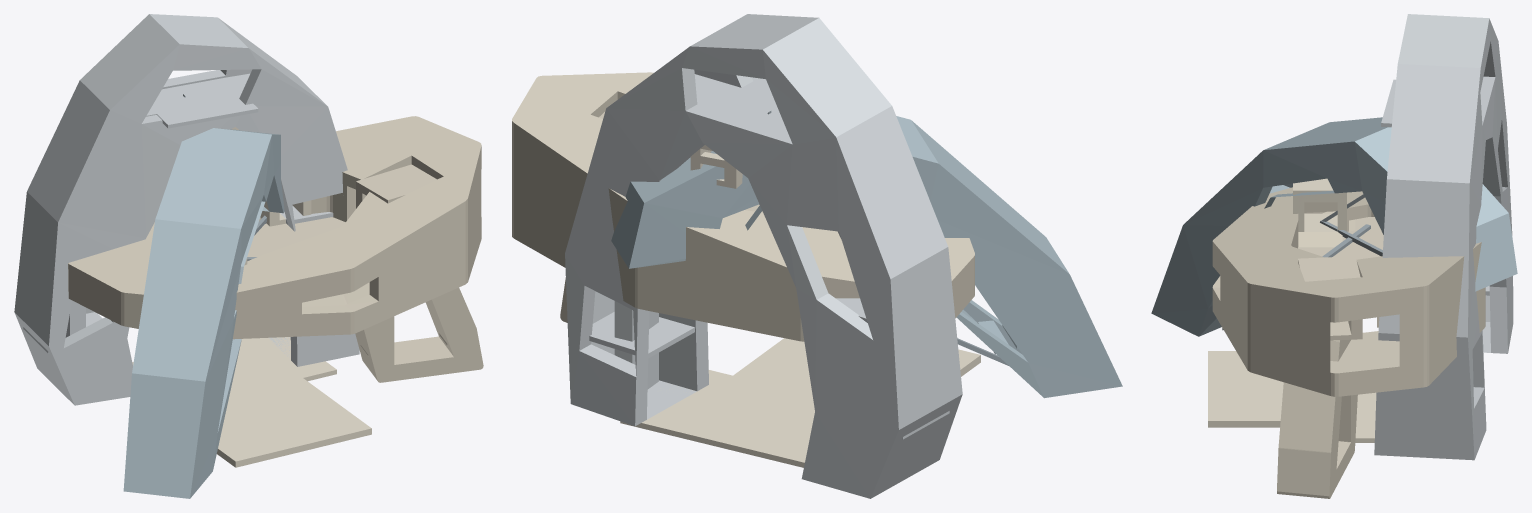
File: ASTERION_REINVENTION.glb
3 views of the same model, side by side, from view 1: azimuth 30°, elevation 25°; view 2: azimuth 150°, elevation 25°; view 3: azimuth 270°, elevation 25° (orthographic). The views are drawn at different scales.
Visible parts, largest first — view 1: TENRYO_south_city_wall, SHATO_cavern_envelope_outer, CHOTEI_sky_landform, TENRYO_deep_envelope_outer, SHATO_west_canyon_wall, CHOTEI_outer_city_shell, GROUND_public_forum, CHOTEI_ground_city_root, CHOTEI_carved_keel, SHATO_east_canyon_wall, GROUND_portal_public_ground, TENRYO_north_city_wall (+9 smaller); view 2: TENRYO_north_city_wall, TENRYO_deep_envelope_outer, SHATO_east_canyon_wall, CHOTEI_sky_landform, CHOTEI_outer_city_shell, GROUND_portal_public_ground, TENRYO_south_city_wall, SHATO_cavern_envelope_outer, CHOTEI_carved_keel, GROUND_public_forum, TENRYO_district_3000_0, TENRYO_district_600_1 (+3 smaller); view 3: TENRYO_deep_envelope_outer, TENRYO_north_city_wall, SHATO_west_canyon_wall, CHOTEI_sky_landform, CHOTEI_outer_city_shell, CHOTEI_ground_city_root, CHOTEI_carved_keel, TENRYO_south_city_wall, SHATO_cavern_envelope_outer, GROUND_public_forum, CHOTEI_gate_foundations, CHOTEI_east_forum_roof (+13 smaller).
Part boxes in pixels (x1=…): TENRYO_south_city_wall: x1=42, y1=38, x2=359, y2=405; SHATO_cavern_envelope_outer: x1=123, y1=128, x2=278, y2=498; CHOTEI_sky_landform: x1=68, y1=116, x2=481, y2=306; TENRYO_deep_envelope_outer: x1=14, y1=14, x2=323, y2=404; SHATO_west_canyon_wall: x1=176, y1=134, x2=284, y2=498; CHOTEI_outer_city_shell: x1=68, y1=158, x2=481, y2=327; GROUND_public_forum: x1=217, y1=378, x2=371, y2=467; CHOTEI_ground_city_root: x1=355, y1=287, x2=483, y2=382; CHOTEI_carved_keel: x1=68, y1=228, x2=481, y2=339; SHATO_east_canyon_wall: x1=124, y1=134, x2=198, y2=492; GROUND_portal_public_ground: x1=132, y1=337, x2=336, y2=395; TENRYO_north_city_wall: x1=21, y1=14, x2=266, y2=361; TENRYO_north_city_wall: x1=565, y1=40, x2=905, y2=498; TENRYO_deep_envelope_outer: x1=591, y1=14, x2=962, y2=498; SHATO_east_canyon_wall: x1=624, y1=154, x2=1122, y2=398; CHOTEI_sky_landform: x1=512, y1=72, x2=974, y2=295; CHOTEI_outer_city_shell: x1=512, y1=134, x2=974, y2=327; GROUND_portal_public_ground: x1=620, y1=370, x2=814, y2=467; TENRYO_south_city_wall: x1=659, y1=15, x2=962, y2=466; SHATO_cavern_envelope_outer: x1=612, y1=122, x2=1069, y2=322; CHOTEI_carved_keel: x1=512, y1=222, x2=974, y2=341; GROUND_public_forum: x1=733, y1=338, x2=980, y2=394; TENRYO_district_3000_0: x1=694, y1=74, x2=787, y2=132; TENRYO_district_600_1: x1=589, y1=312, x2=694, y2=358; TENRYO_deep_envelope_outer: x1=1374, y1=14, x2=1490, y2=460; TENRYO_north_city_wall: x1=1452, y1=17, x2=1513, y2=459; SHATO_west_canyon_wall: x1=1151, y1=137, x2=1477, y2=336; CHOTEI_sky_landform: x1=1212, y1=187, x2=1481, y2=310; CHOTEI_outer_city_shell: x1=1220, y1=212, x2=1485, y2=382; CHOTEI_ground_city_root: x1=1277, y1=339, x2=1357, y2=498; CHOTEI_carved_keel: x1=1212, y1=211, x2=1485, y2=396; TENRYO_south_city_wall: x1=1374, y1=14, x2=1424, y2=454; SHATO_cavern_envelope_outer: x1=1199, y1=117, x2=1517, y2=336; GROUND_public_forum: x1=1208, y1=351, x2=1283, y2=427; CHOTEI_gate_foundations: x1=1212, y1=276, x2=1399, y2=384; CHOTEI_east_forum_roof: x1=1298, y1=256, x2=1360, y2=281.
Size of the model in its own units: 4938 by 3870 by 3536.
